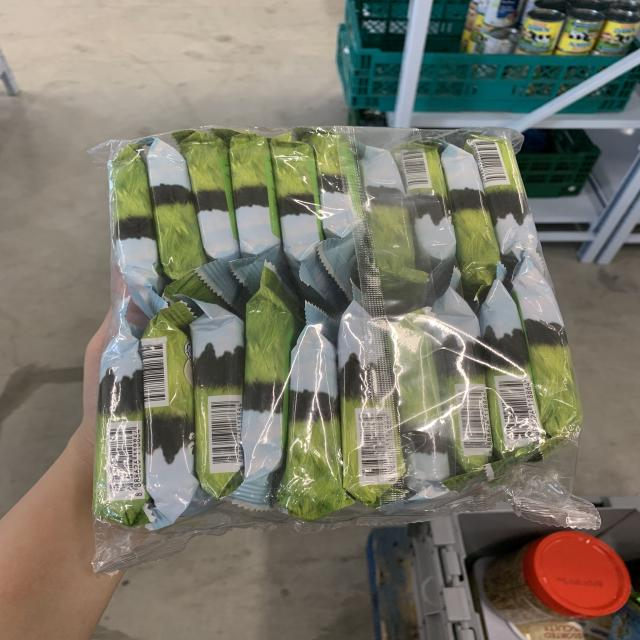object_name: (103, 134, 569, 518)
